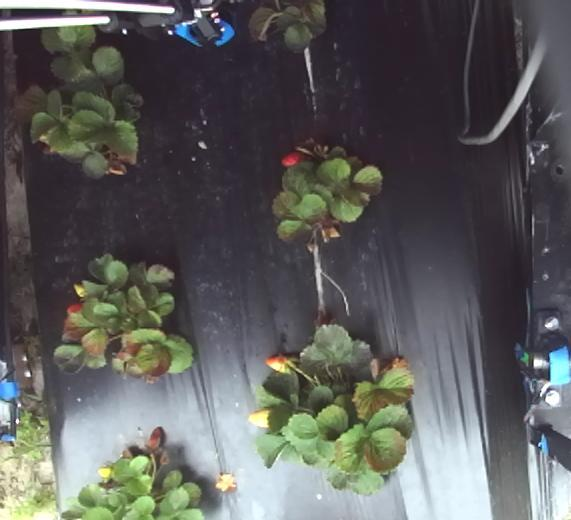mature: (265, 355, 296, 378), (65, 300, 85, 320), (280, 150, 303, 167)
